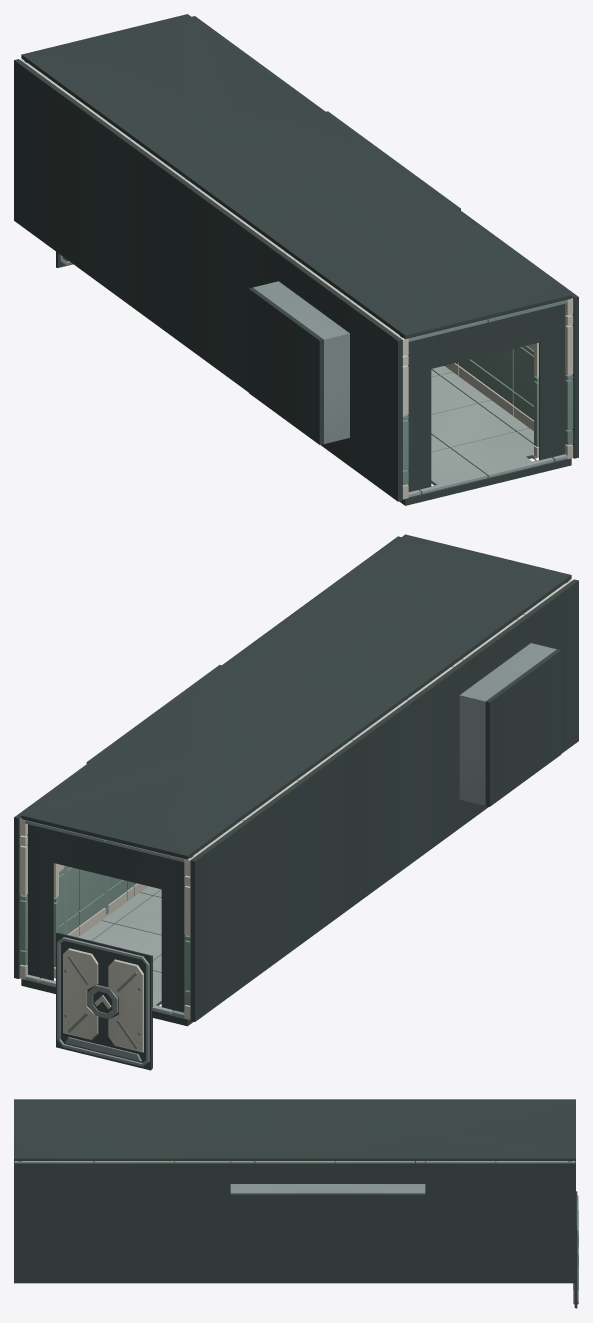
The model's file is passage-2-3.glb.
3 renders of one model, top to bottom at view 1: azimuth 30°, elevation 25°; view 2: azimuth 150°, elevation 25°; view 3: azimuth 270°, elevation 25°, orthographic. The views are drawn at different scales.
Parts seen in each view (by area): view 1: C2_passage-2-3_Batch_Architecture_Graphite, C2_passage-2-3_Batch_Architecture_Resin, C2_passage-2-3_Batch_Architecture_Alloy, C2_passage-2-3_Batch_Architecture_Cool, C2_passage-2-3_Batch_Architecture_Ceramic; view 2: C2_passage-2-3_Batch_Architecture_Graphite, C2_passage-2-3_Batch_cultivation-room-2-to-3-goop-lab-passag (×3), C2_passage-2-3_Batch_Architecture_Alloy, C2_passage-2-3_Batch_Architecture_Cool, C2_passage-2-3_Batch_Architecture_Resin, C2_passage-2-3_Batch_Architecture_Ceramic; view 3: C2_passage-2-3_Batch_Architecture_Graphite, C2_passage-2-3_Batch_Architecture_Alloy, C2_passage-2-3_Batch_Architecture_Ceramic, C2_passage-2-3_Batch_cultivation-room-2-to-3-goop-lab-passag.
Boxes of the visible parts, <box> form: C2_passage-2-3_Batch_Architecture_Graphite: <box>14,14,578,505</box>; C2_passage-2-3_Batch_Architecture_Resin: <box>408,366,567,496</box>; C2_passage-2-3_Batch_Architecture_Alloy: <box>76,99,487,443</box>; C2_passage-2-3_Batch_Architecture_Cool: <box>402,300,573,485</box>; C2_passage-2-3_Batch_Architecture_Ceramic: <box>20,59,573,499</box>; C2_passage-2-3_Batch_Architecture_Graphite: <box>14,534,578,1026</box>; C2_passage-2-3_Batch_cultivation-room-2-to-3-goop-lab-passag (×3): <box>56,932,152,1070</box>; C2_passage-2-3_Batch_Architecture_Alloy: <box>64,643,556,1017</box>; C2_passage-2-3_Batch_Architecture_Cool: <box>19,820,190,1005</box>; C2_passage-2-3_Batch_Architecture_Resin: <box>25,886,173,1014</box>; C2_passage-2-3_Batch_Architecture_Ceramic: <box>19,579,572,1019</box>; C2_passage-2-3_Batch_Architecture_Graphite: <box>14,1099,575,1283</box>; C2_passage-2-3_Batch_Architecture_Alloy: <box>230,1184,425,1193</box>; C2_passage-2-3_Batch_Architecture_Ceramic: <box>14,1161,575,1162</box>; C2_passage-2-3_Batch_cultivation-room-2-to-3-goop-lab-passag: <box>574,1191,577,1308</box>.
Bounding box in the file's own units: 10.16 × 8.95 × 28.15.
